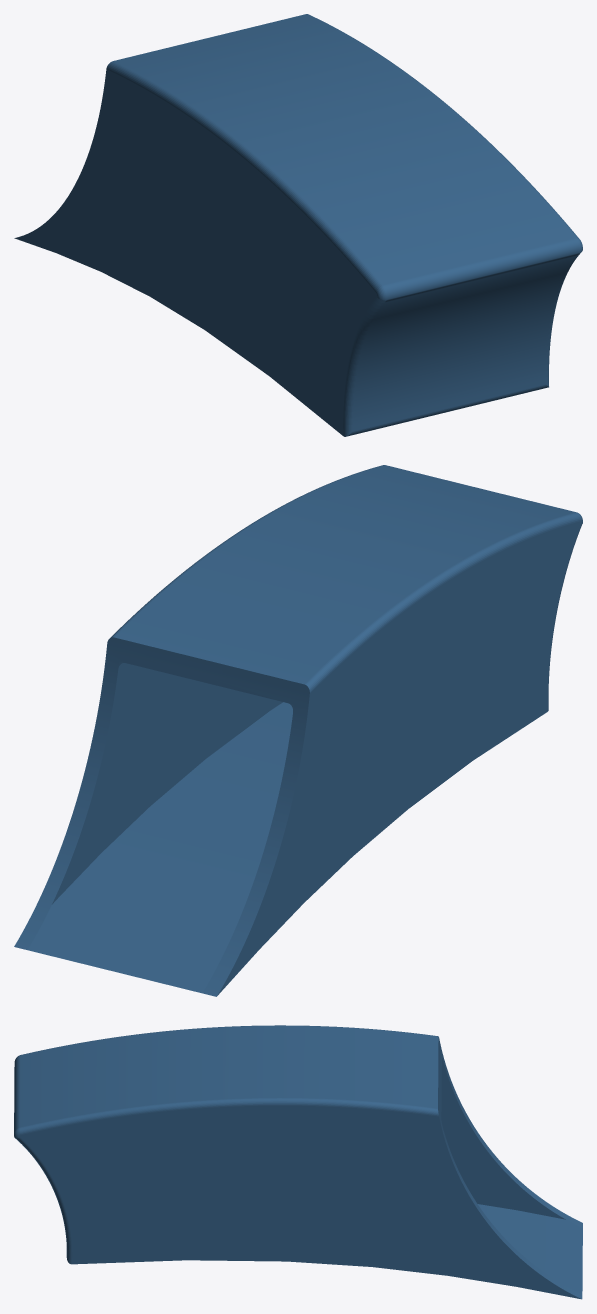
Rendered from original-9.obj.
3 views of the same model, one above another, from view 1: azimuth 30°, elevation 25°; view 2: azimuth 150°, elevation 25°; view 3: azimuth 270°, elevation 25° (orthographic). The views are drawn at different scales.
Visible parts, largest first — view 1: #ID67; view 2: #ID67; view 3: #ID67.
Boxes of the visible parts, x1,y1,x2,y2 form: #ID67: (14,14,582,436); #ID67: (14,465,582,996); #ID67: (14,1025,582,1299).
Bounding box in the file's own units: 0.2398 × 0.2868 × 0.7432.
